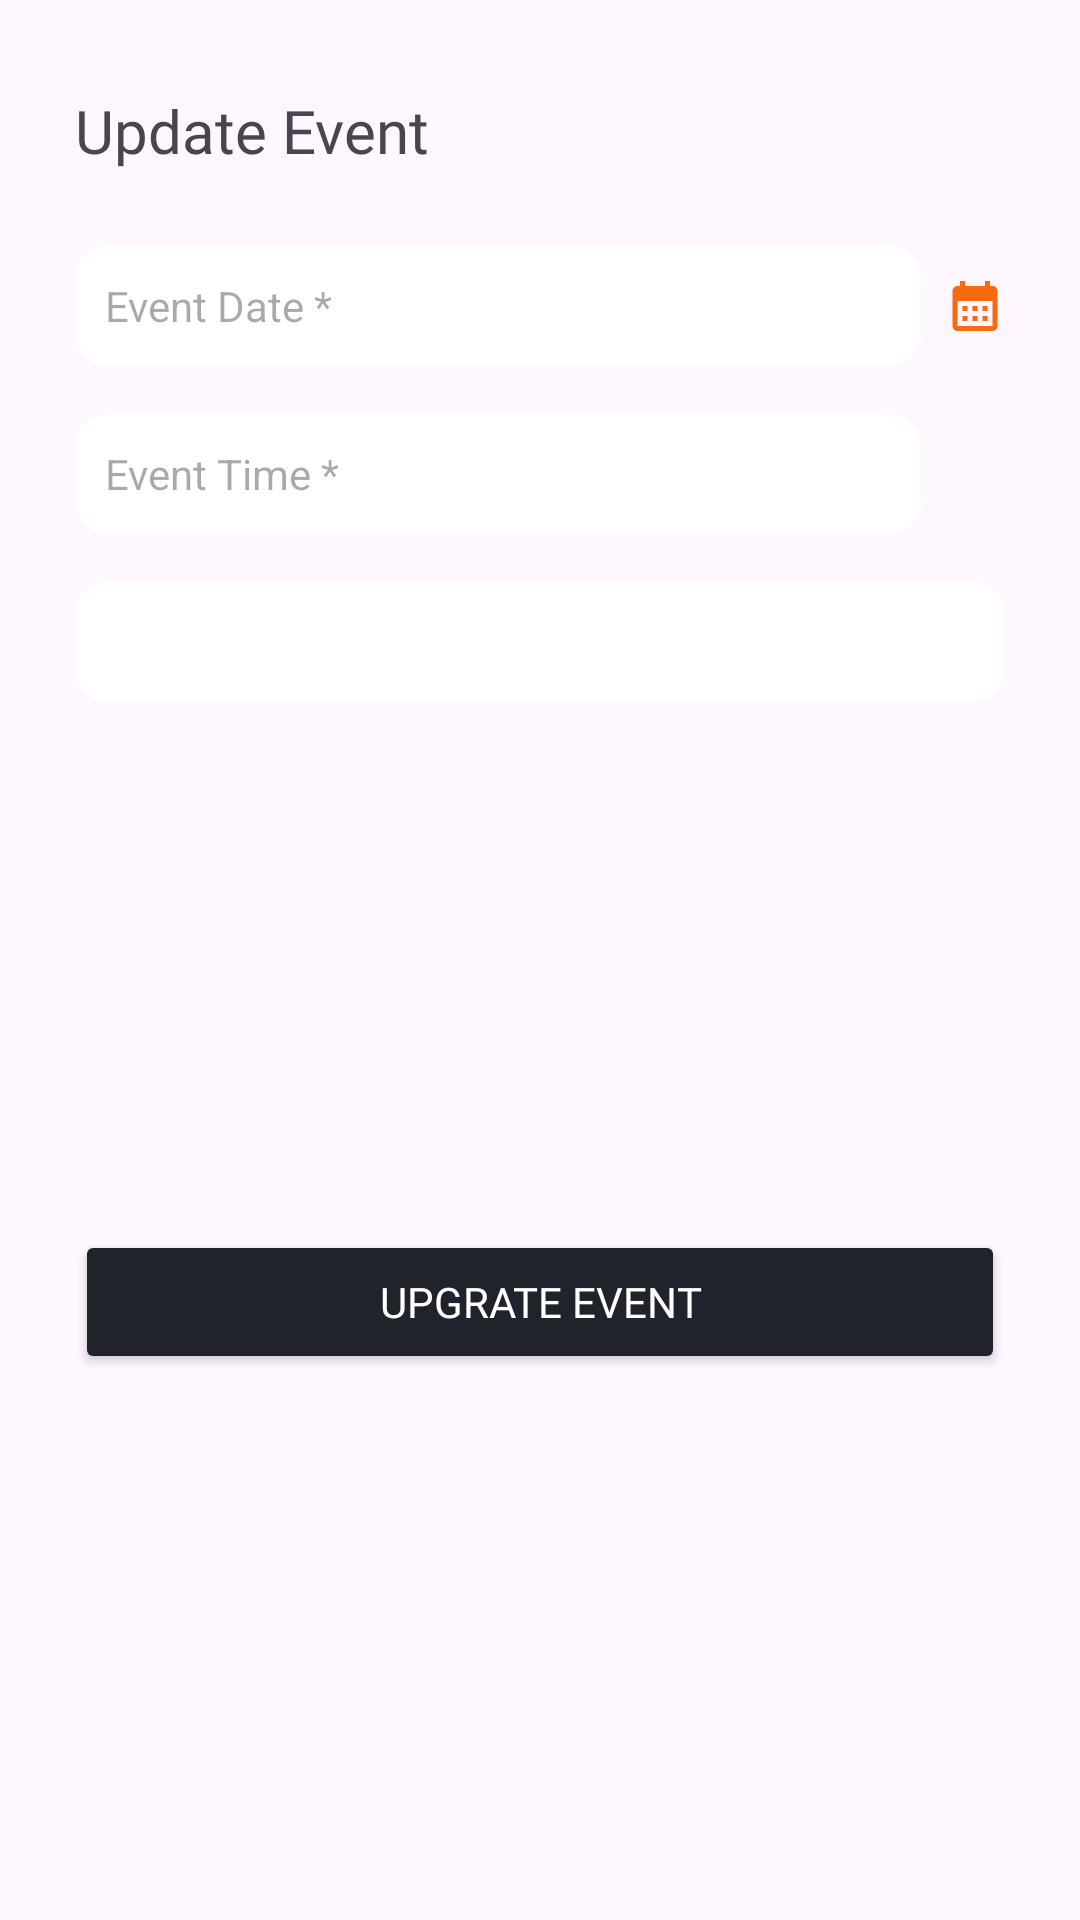

Where to tap for icons on this 1080px x 1920px app screen, as (x=x, y=y):
calendar: (x=975, y=306)
